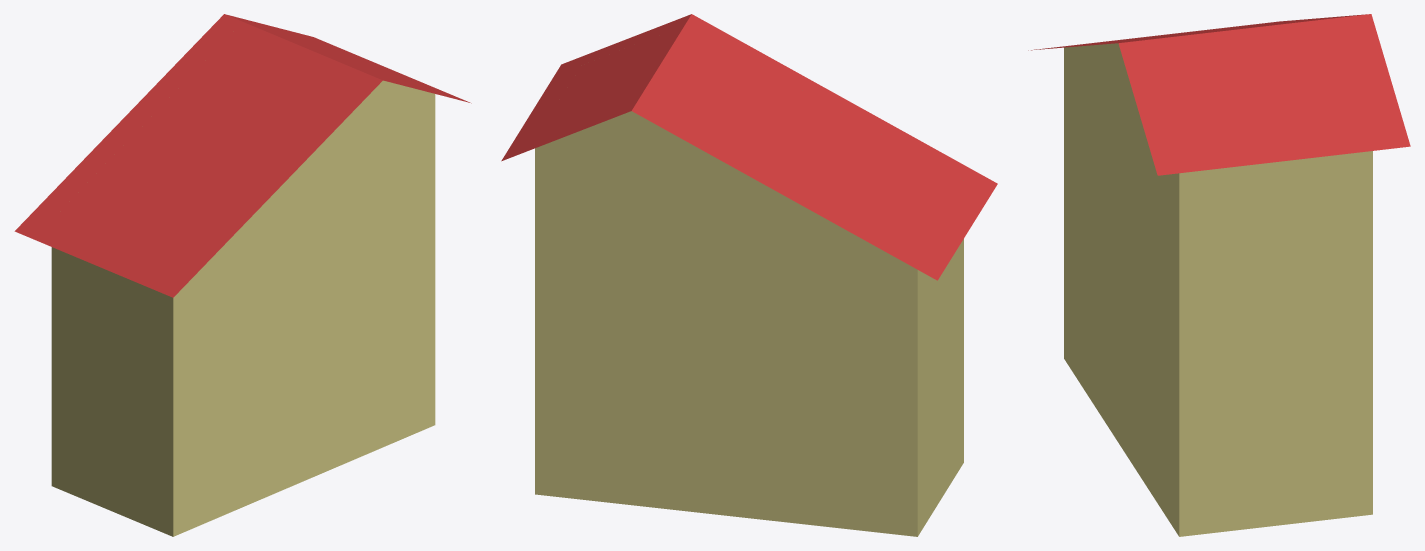
3 renders of one model, left to right at view 1: azimuth 30°, elevation 25°; view 2: azimuth 150°, elevation 25°; view 3: azimuth 270°, elevation 25°, orthographic. The views are drawn at different scales.
Bounding box in the file's own units: 8.93 × 6.24 × 8.04.
